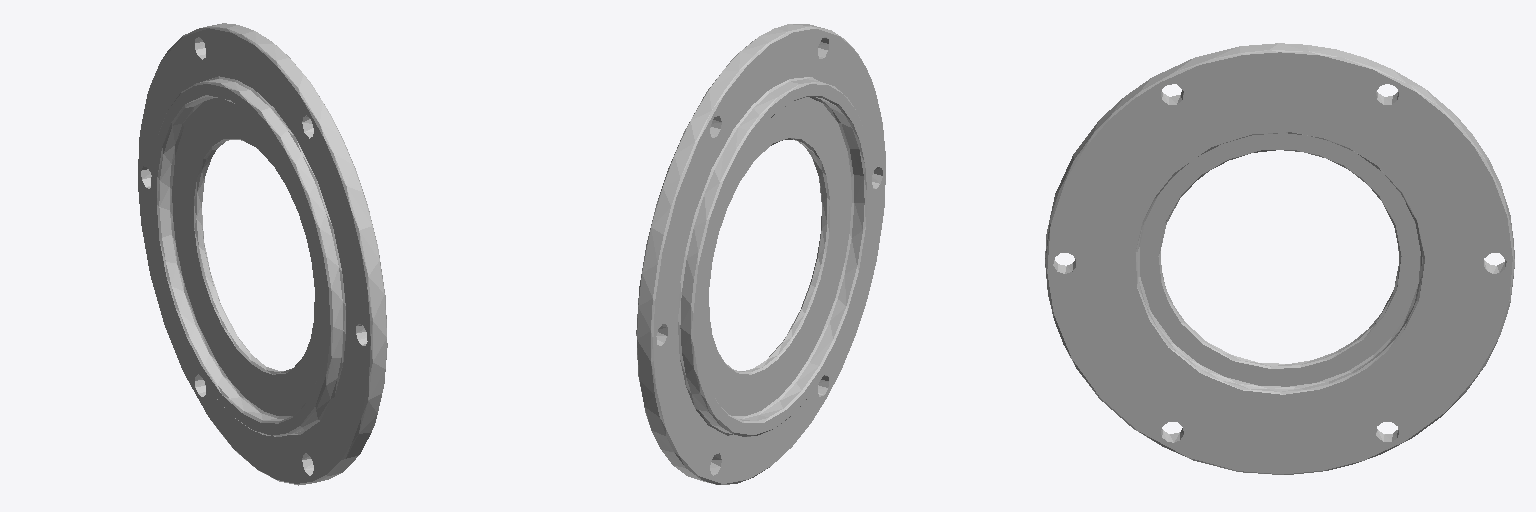
3 renders of one model, left to right at view 1: azimuth 30°, elevation 25°; view 2: azimuth 150°, elevation 25°; view 3: azimuth 270°, elevation 25°, orthographic.
Visible parts, largest first — view 1: imagetostl_mesh0; view 2: imagetostl_mesh0; view 3: imagetostl_mesh0.
Part boxes in pixels (x1,y1,x2,y2): imagetostl_mesh0: (138,23,387,485); imagetostl_mesh0: (636,24,885,484); imagetostl_mesh0: (1045,43,1514,474).
Size of the model in its own units: 18 by 240 by 240.